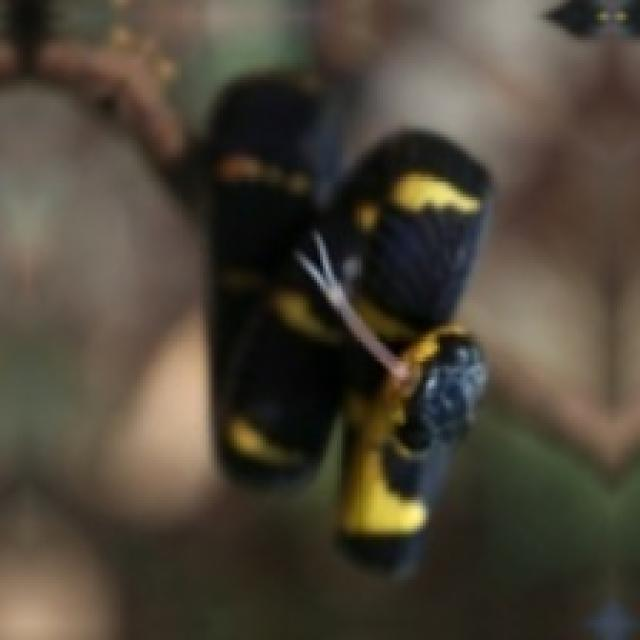mangrove cat snake: (0, 0, 489, 569)
